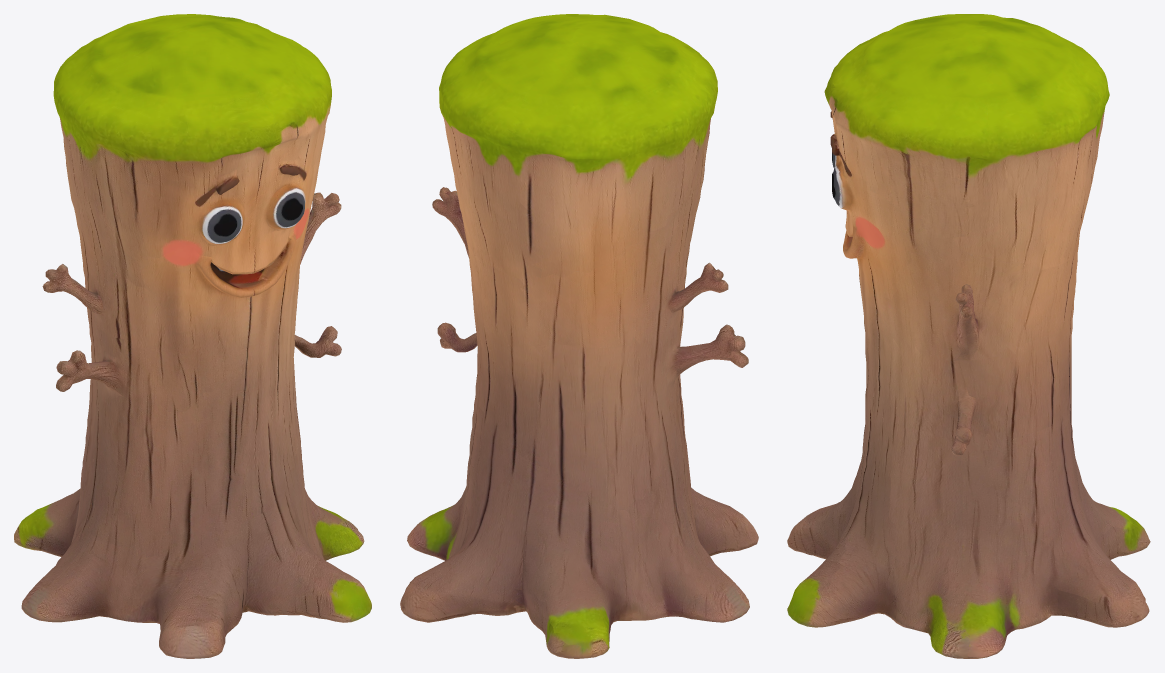
File: stump.glb
3 renders of one model, left to right at view 1: azimuth 30°, elevation 25°; view 2: azimuth 150°, elevation 25°; view 3: azimuth 270°, elevation 25°, orthographic.
Size of the model in its own units: 1.22 by 1.91 by 1.15.
1 material, 1 textured.
